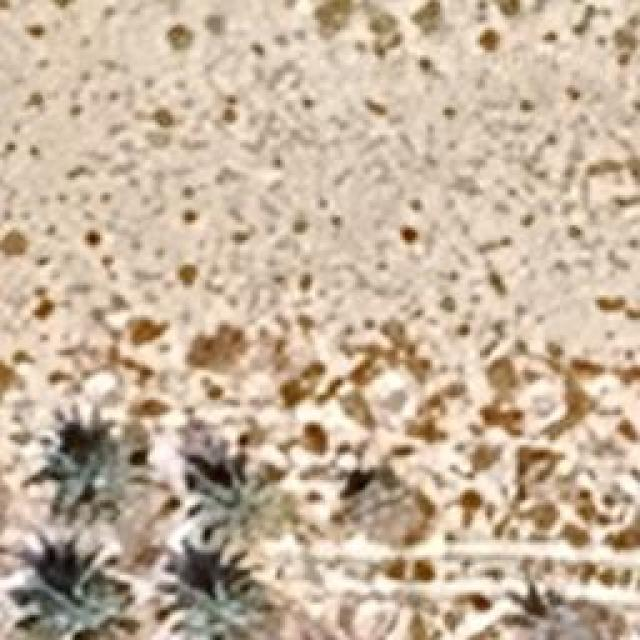PalmTree: (76, 47, 550, 617), (150, 574, 280, 638), (10, 574, 140, 638), (197, 485, 295, 545)
